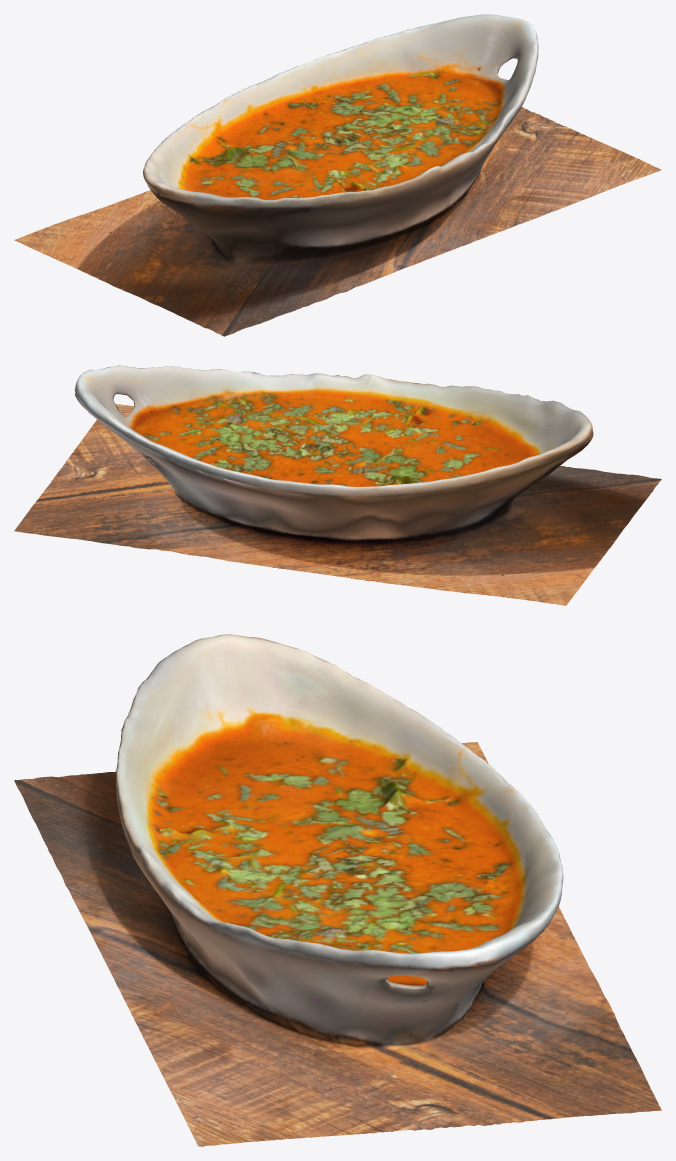
Rendered from paneer.glb.
3 views of the same model, one above another, from view 1: azimuth 30°, elevation 25°; view 2: azimuth 150°, elevation 25°; view 3: azimuth 270°, elevation 25° (orthographic). The views are drawn at different scales.
Visible parts, largest first — view 1: 3DModel; view 2: 3DModel; view 3: 3DModel.
Boxes of the visible parts, left/top/right/bottom form: 3DModel: left=14, top=14, right=661, bottom=336; 3DModel: left=14, top=365, right=661, bottom=605; 3DModel: left=14, top=634, right=661, bottom=1146.
Bounding box in the file's own units: 0.834 × 0.1533 × 0.5592.
1 material, 1 textured.
